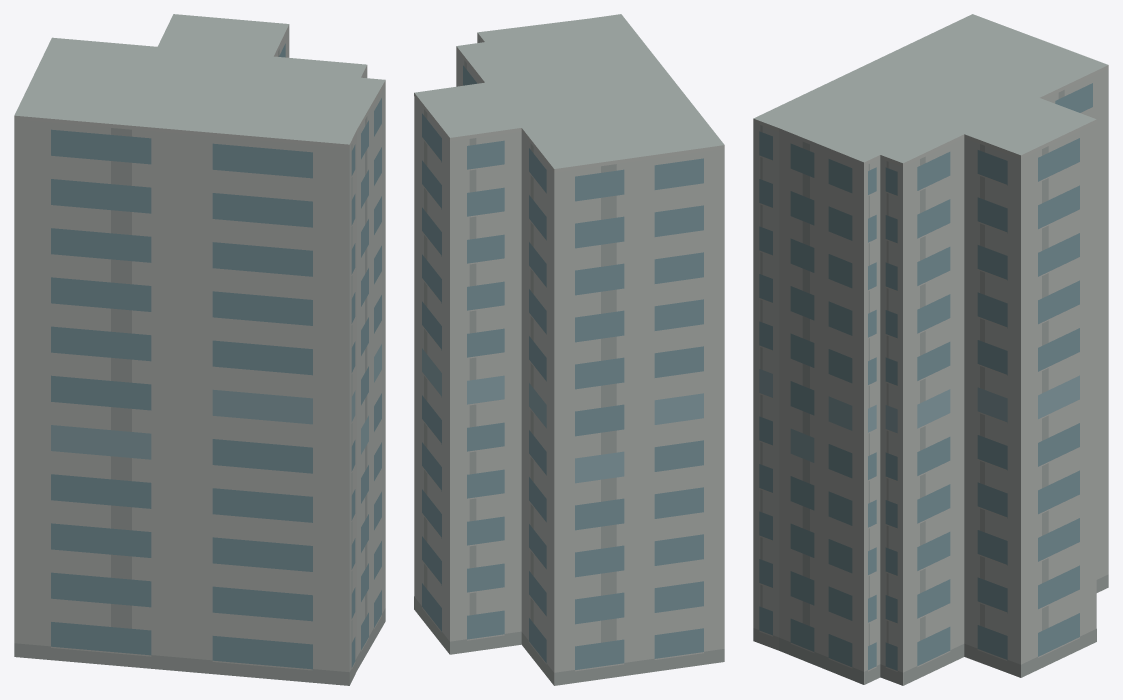
The model's file is residential-8654758a-0cd0-42f0-916a-5d98b33c621d.glb.
3 renders of one model, left to right at view 1: azimuth 30°, elevation 25°; view 2: azimuth 150°, elevation 25°; view 3: azimuth 270°, elevation 25°, orthographic. The views are drawn at different scales.
Parts seen in each view (by area): view 1: residential-8654758a-0cd0-42f0-916a-5d98b33c621d.tmp; view 2: residential-8654758a-0cd0-42f0-916a-5d98b33c621d.tmp; view 3: residential-8654758a-0cd0-42f0-916a-5d98b33c621d.tmp.
Boxes of the visible parts, x1,y1,x2,y2 form: residential-8654758a-0cd0-42f0-916a-5d98b33c621d.tmp: [14, 14, 385, 685]; residential-8654758a-0cd0-42f0-916a-5d98b33c621d.tmp: [414, 14, 724, 685]; residential-8654758a-0cd0-42f0-916a-5d98b33c621d.tmp: [753, 14, 1108, 685].
Size of the model in its own units: 20.57 by 33.55 by 20.68.
